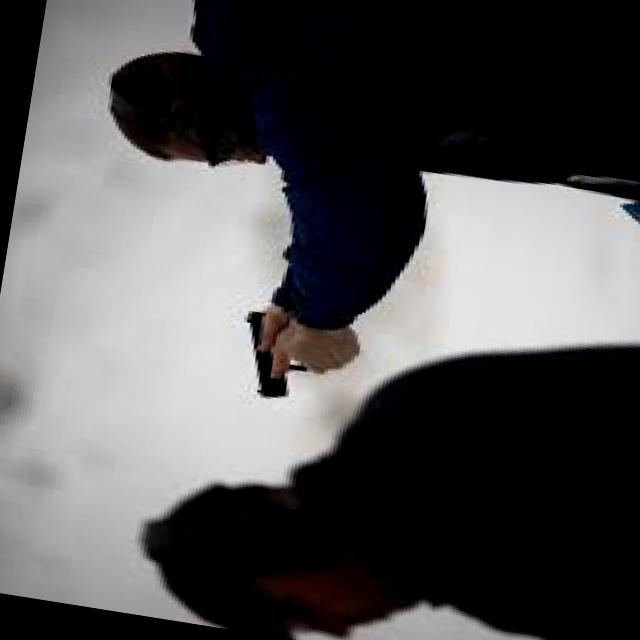handgun: (228, 302, 326, 410)
